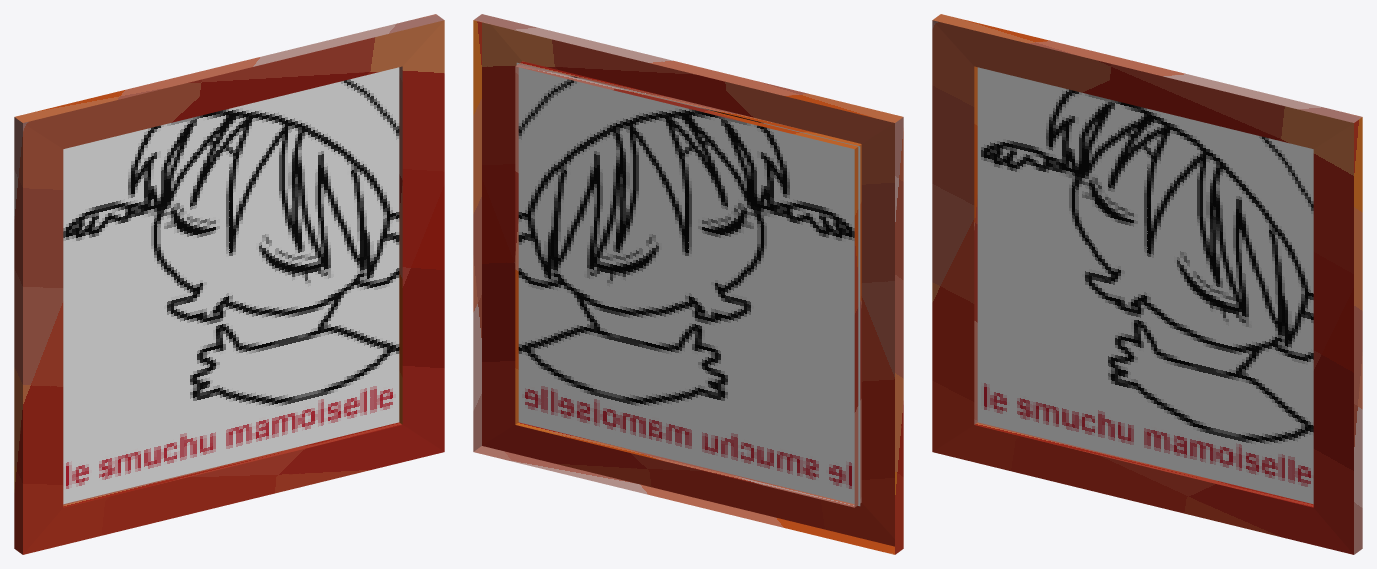
Rendered from smuchu.glb.
The picture shows the model from 3 angles, left to right: view 1: azimuth 30°, elevation 25°; view 2: azimuth 150°, elevation 25°; view 3: azimuth 330°, elevation 25°; orthographic projection.
Parts seen in each view (by area): view 1: image, frame; view 2: image, frame; view 3: image, frame.
Part boxes in pixels (x1,y1,x2,y2): image: (63,67,399,504); frame: (14,14,444,554); image: (516,62,860,506); frame: (473,14,903,554); image: (977,67,1313,504); frame: (932,14,1362,554).
Bounding box in the file's own units: 4.97 × 4.87 × 0.1739.
1 material, 1 textured.
